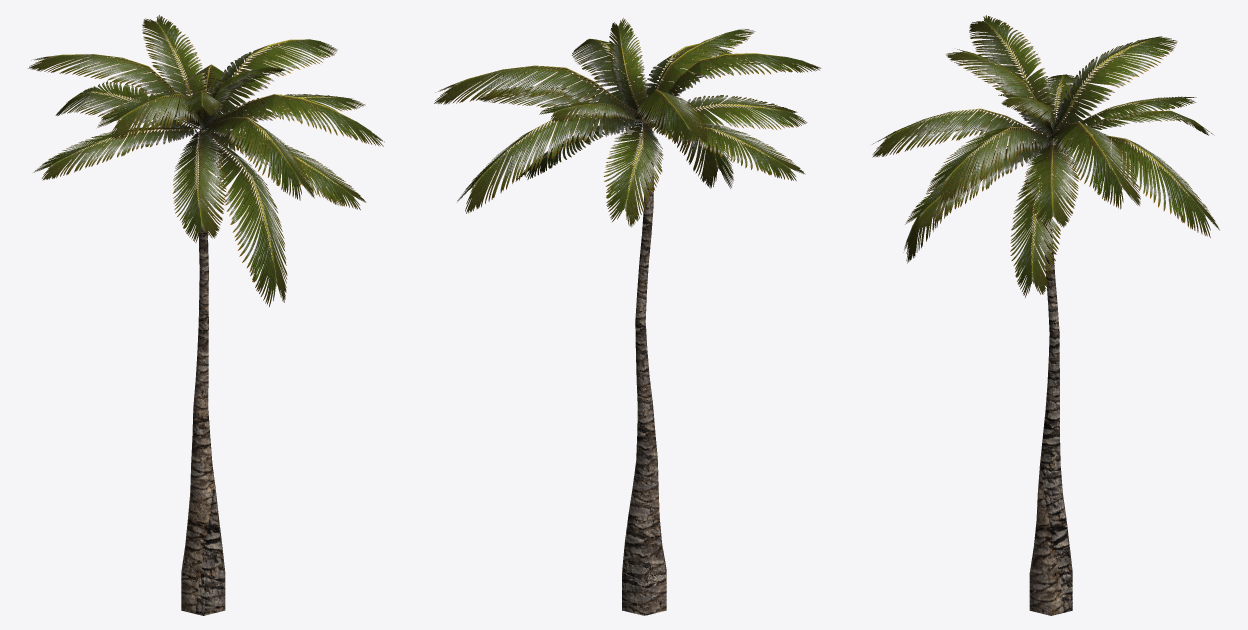
File: Palm Tree.fbx
The picture shows the model from 3 angles, left to right: view 1: azimuth 30°, elevation 25°; view 2: azimuth 150°, elevation 25°; view 3: azimuth 270°, elevation 25°; orthographic projection. The views are drawn at different scales.
Visible parts, largest first — view 1: palm tree; view 2: palm tree; view 3: palm tree.
Boxes of the visible parts, x1=… form: palm tree: x1=28, y1=15, x2=384, y2=615; palm tree: x1=434, y1=18, x2=820, y2=615; palm tree: x1=872, y1=15, x2=1219, y2=615.
Size of the model in its own units: 1073 by 1612 by 1012.
2 materials, 2 textured.
